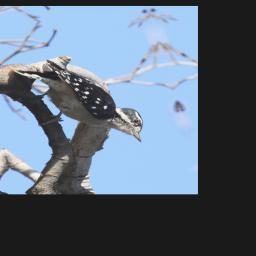Woodpecker: (11, 47, 151, 158)
